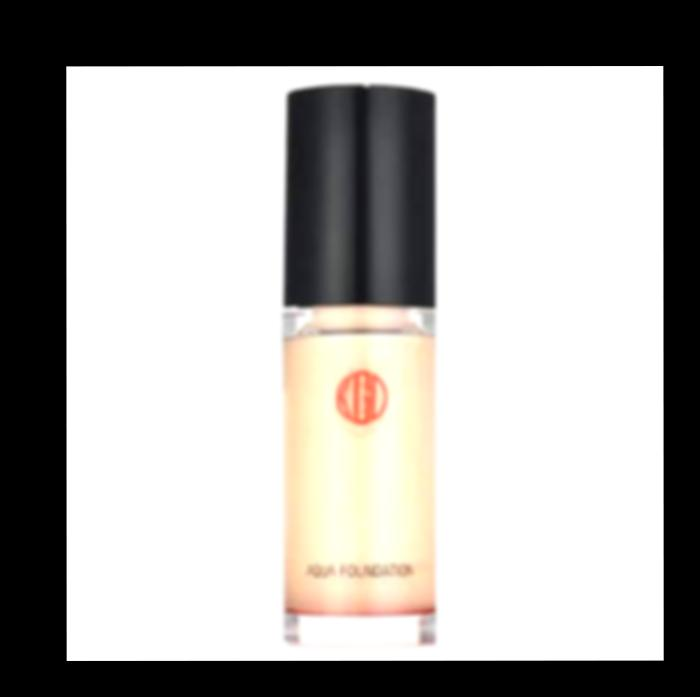cosmetic: (280, 85, 440, 649)
